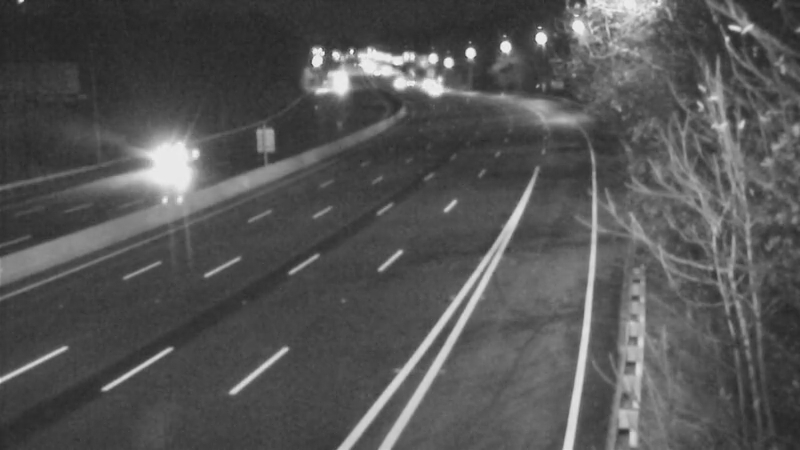vehicle: (138, 120, 218, 200), (402, 58, 452, 108), (410, 64, 460, 114)
